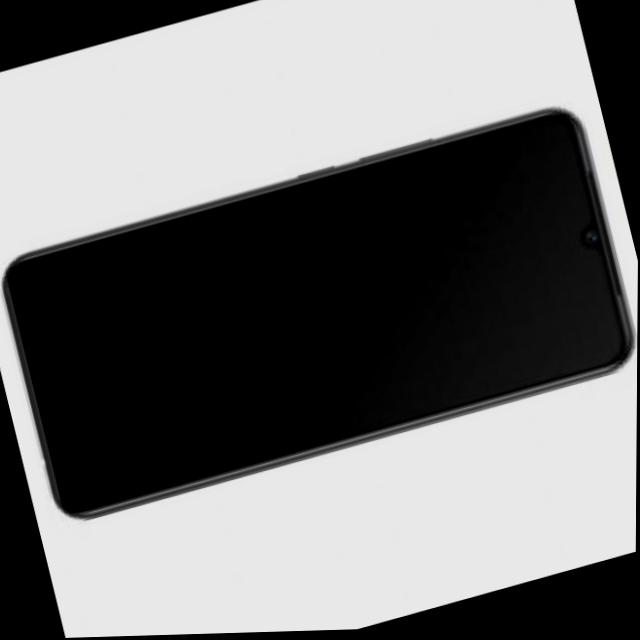Smartphone: (0, 95, 639, 528)
